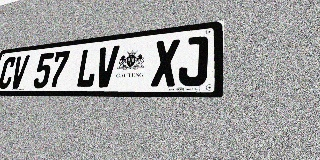5: (32, 52, 55, 88)
7: (47, 51, 70, 88)
C: (0, 56, 17, 89)
J: (178, 36, 208, 86)
L: (75, 47, 100, 88)
V: (94, 45, 120, 88), (9, 55, 30, 89)
X: (151, 39, 180, 87)
